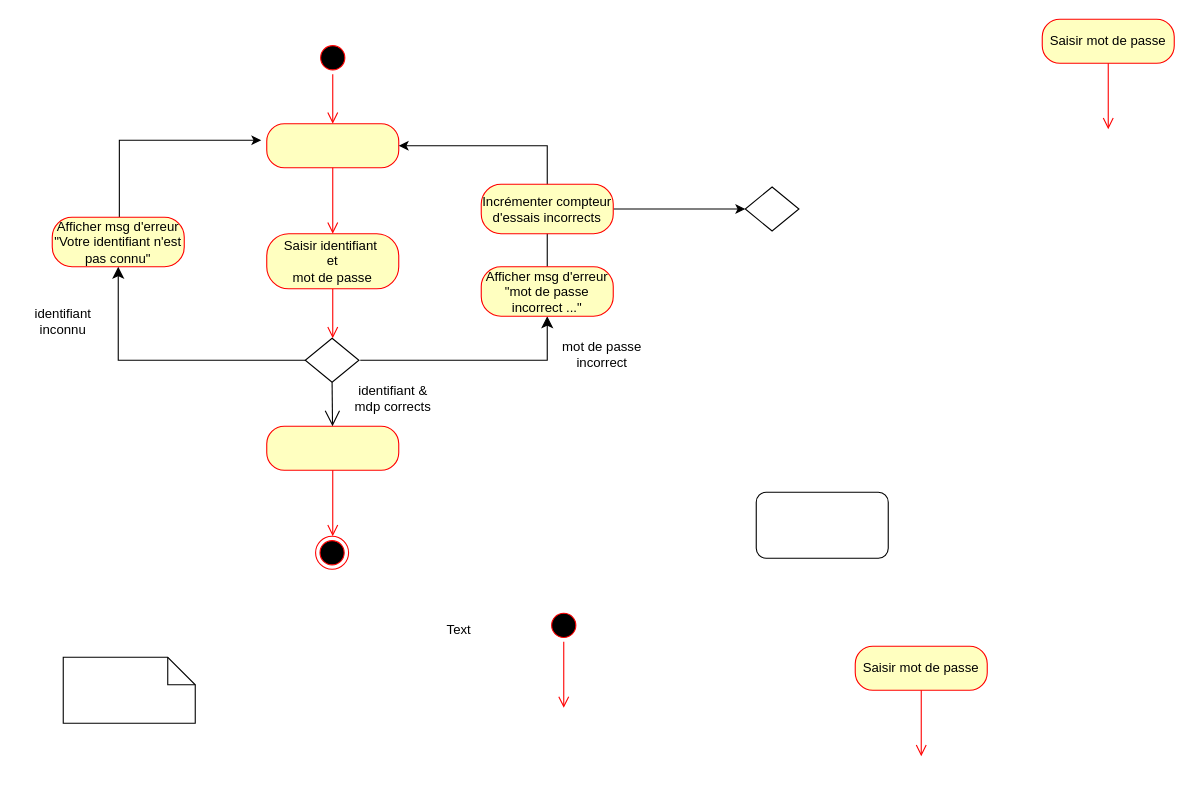
This 1194x787 diagram has some shape labels left out. The box of each missing label's shape, as (x1, y1, x2, y2) in pixels:
Comment1 body: (62, 656, 195, 723)
Page d'accueil: (266, 425, 399, 470)
Page de connexion: (266, 123, 399, 168)
